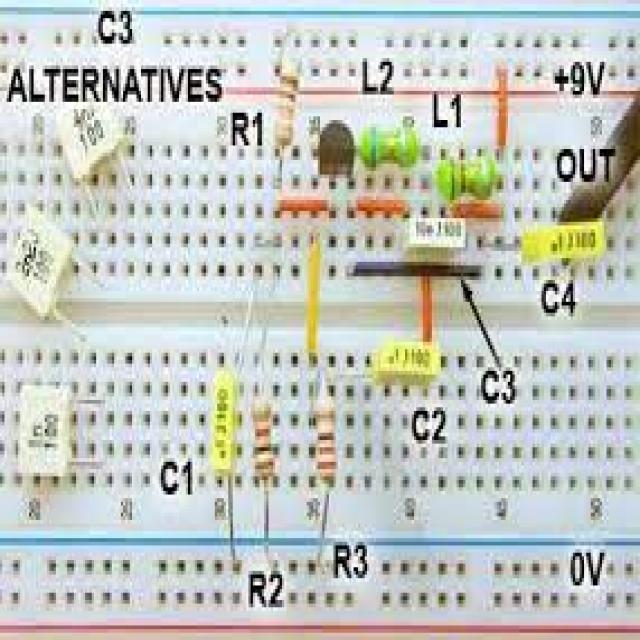capacitor: (274, 54, 303, 151), (314, 390, 339, 487), (252, 394, 274, 484)
